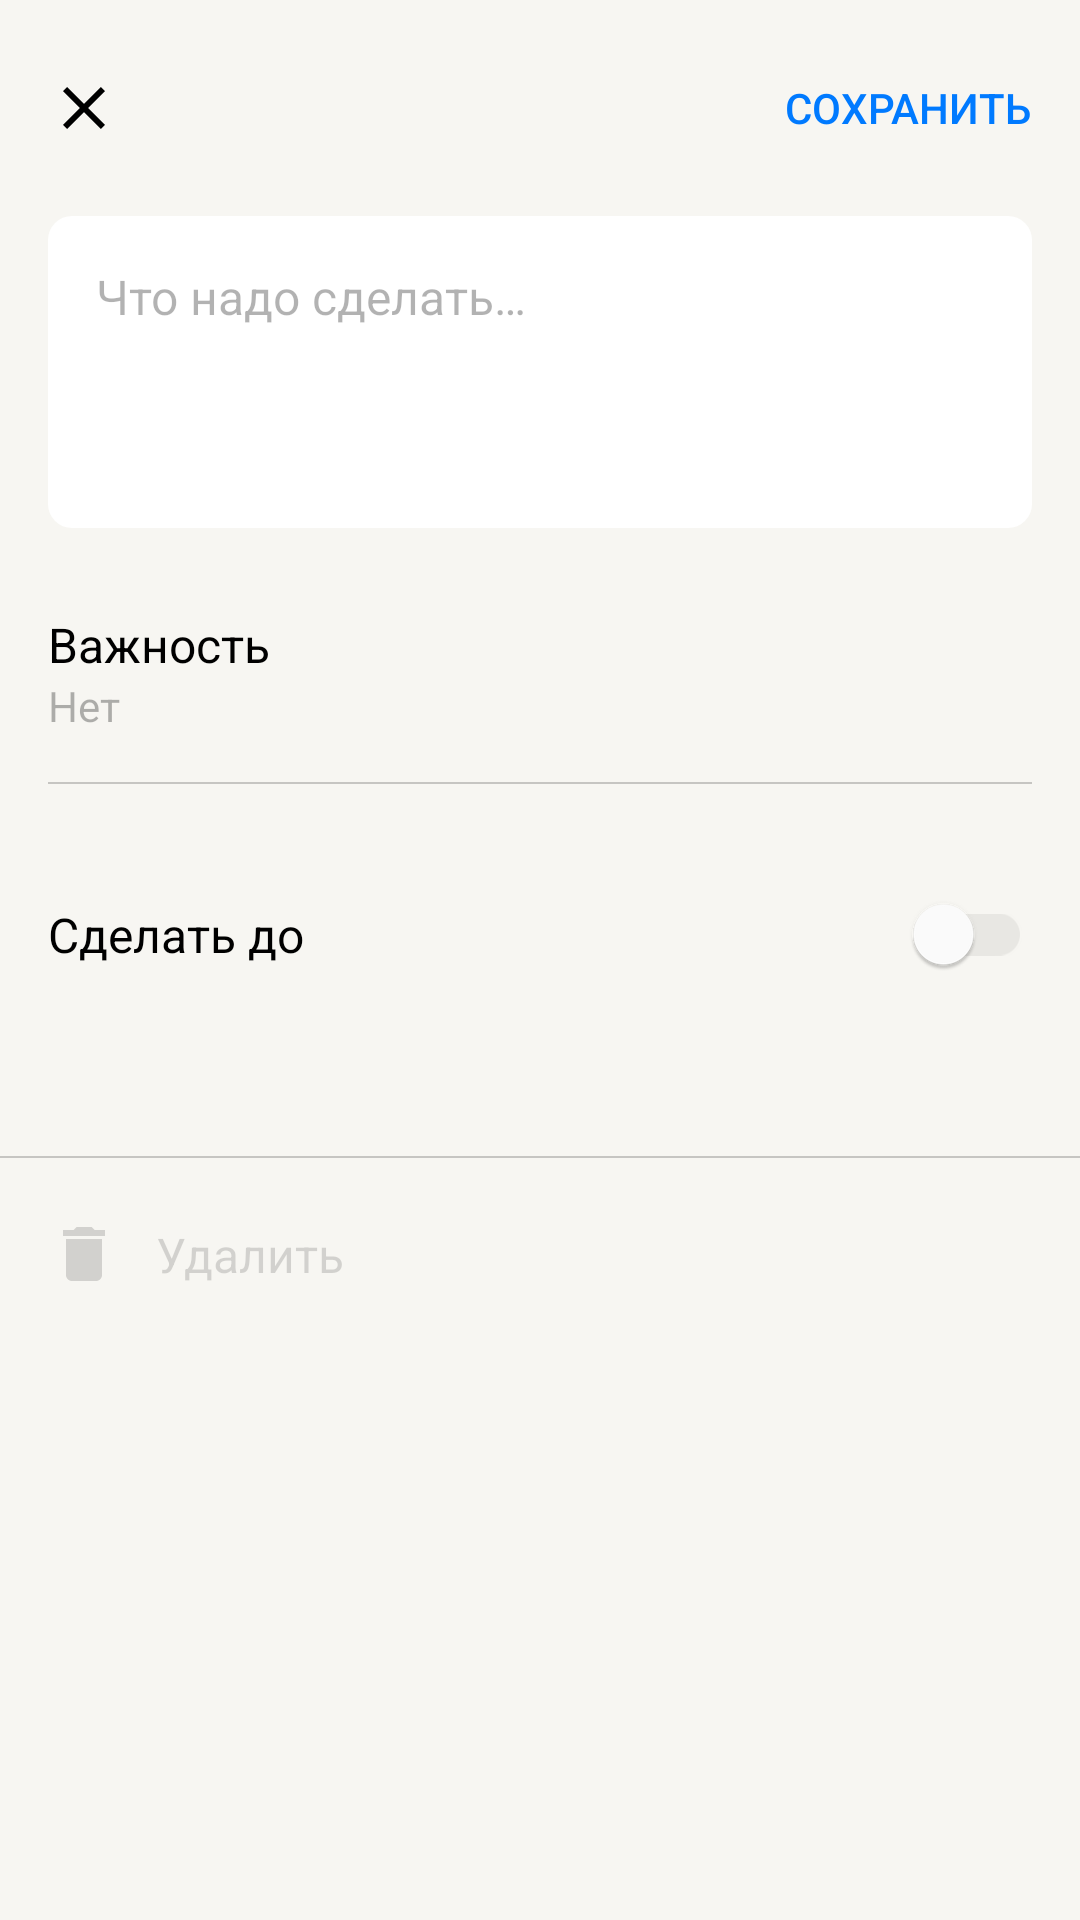

Where icons sit on this 1080px x 1920px app screen, as (x1=x1, y1=y1, x2=x2, y2=y2):
Закрыть: (x1=63, y1=87, x2=105, y2=129)
